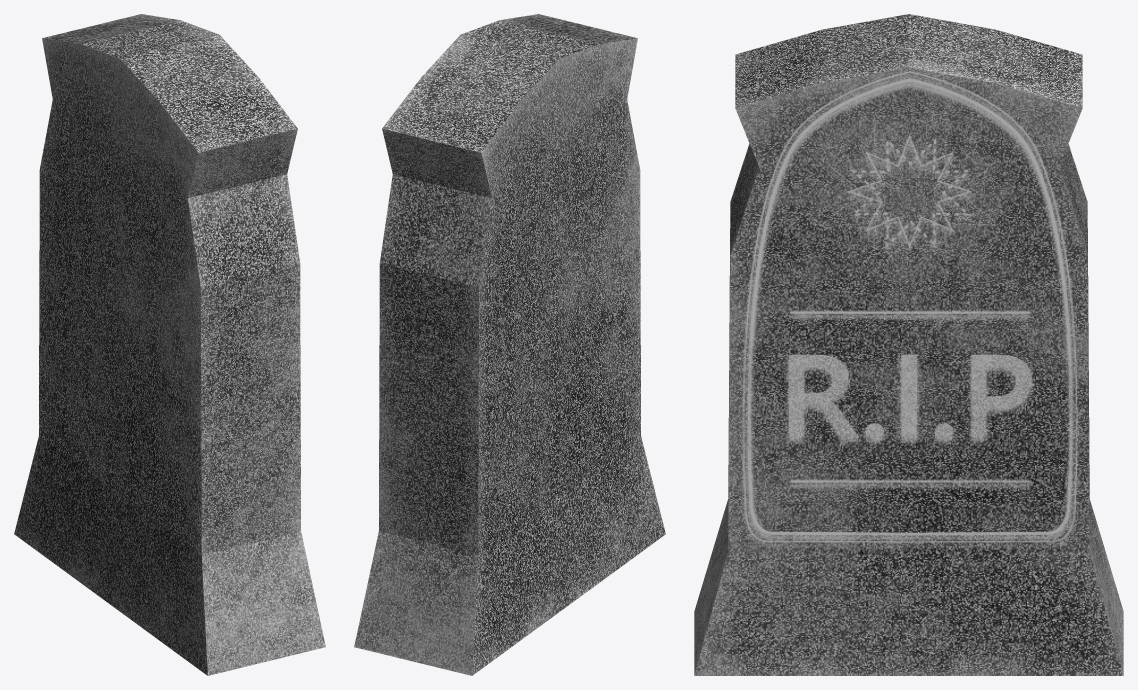
The model's file is Tombstone 2.obj.
3 views of the same model, side by side, from view 1: azimuth 30°, elevation 25°; view 2: azimuth 150°, elevation 25°; view 3: azimuth 270°, elevation 25° (orthographic). The views are drawn at different scales.
Parts seen in each view (by area): view 1: Cube.001; view 2: Cube.001; view 3: Cube.001.
Part boxes in pixels (x1,y1,x2,y2): Cube.001: [14, 14, 325, 675]; Cube.001: [354, 14, 665, 675]; Cube.001: [694, 14, 1123, 675].
Bounding box in the file's own units: 0.8368 × 3.68 × 2.38.
Materials: 1 (1 with a texture image).
